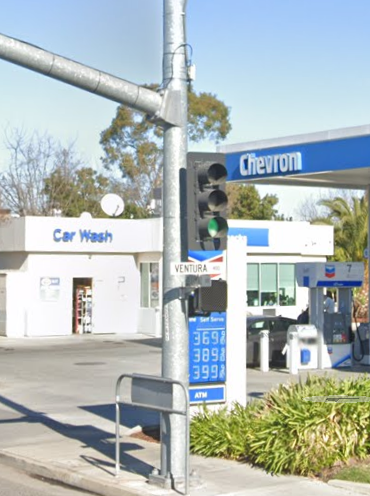green_light: (190, 154, 229, 250)
